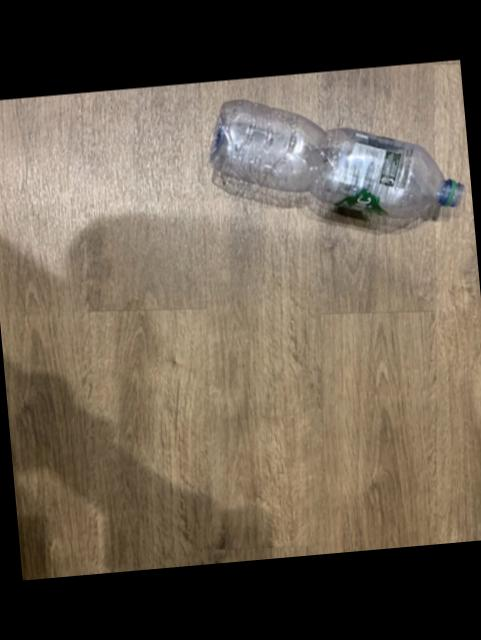plastic: (211, 102, 463, 219)
